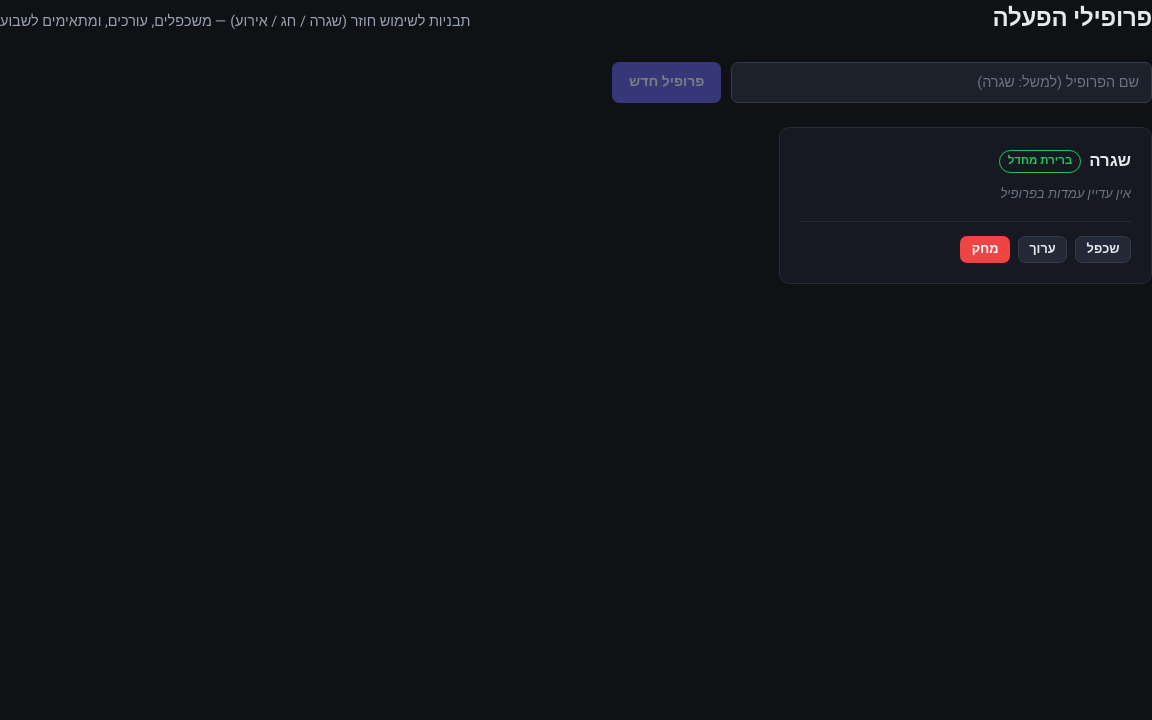
Test: ProfilesPage › warns with the cascade impact before deleting a profile that has schedules
Expected: the text "שגרה" is shown, [1089,148,1131,175]
Step 1. Click the button "מחק" → click(985, 249), box [960,236,1010,263]
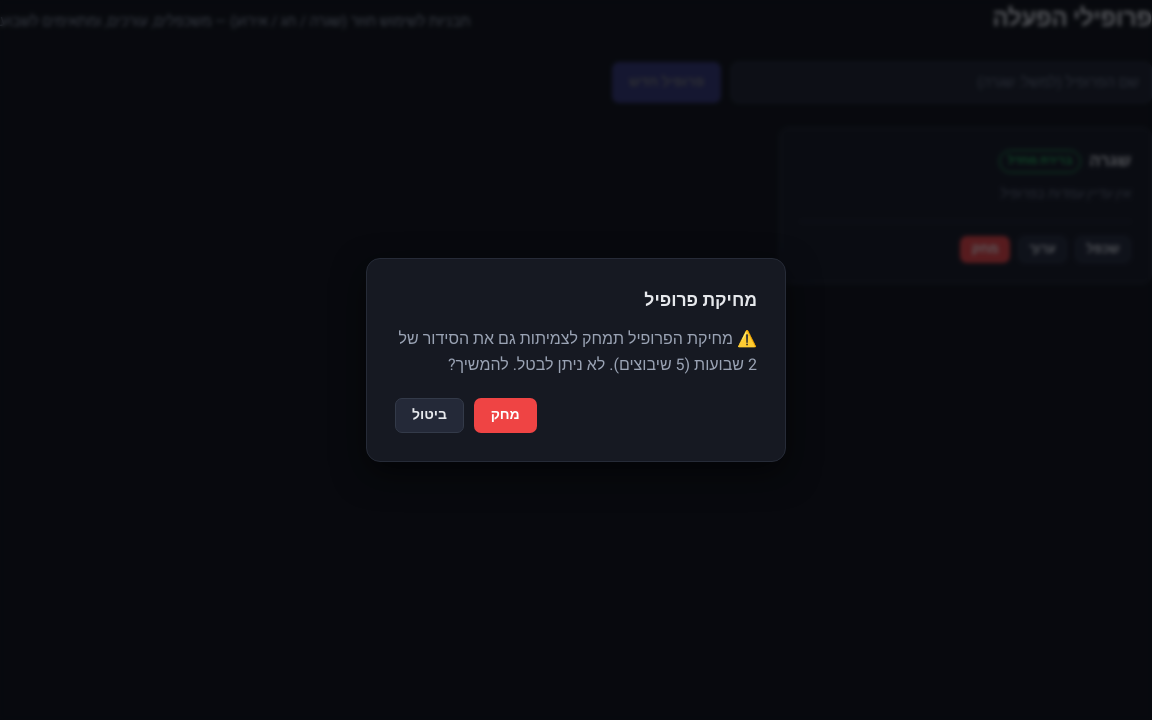
Expected: the text "5 שיבוצים" is shown, [399,327,757,377]
